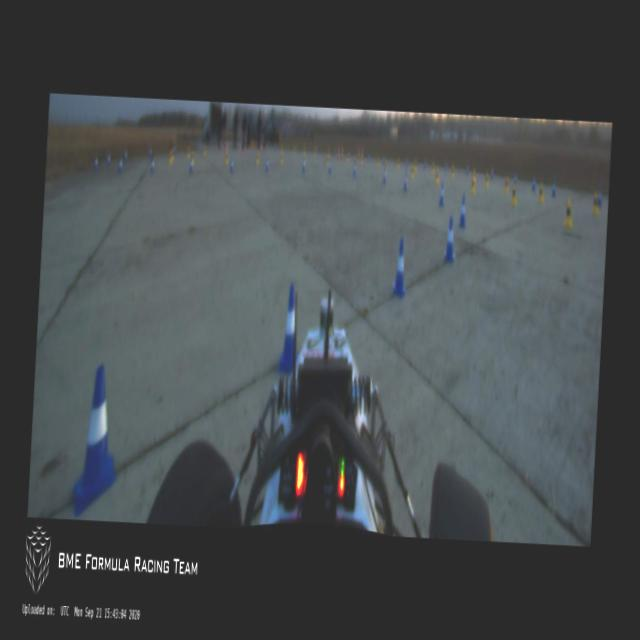blue_cone: (72, 363, 122, 518), (278, 284, 296, 372), (392, 238, 408, 296), (444, 216, 456, 262), (458, 195, 468, 227), (440, 181, 446, 206), (402, 172, 408, 192), (550, 180, 556, 198), (382, 168, 387, 184), (301, 158, 306, 172), (532, 176, 536, 192), (328, 159, 332, 174), (353, 162, 357, 176), (265, 158, 269, 172), (230, 158, 234, 172)
yellow_cone: (564, 200, 574, 227), (592, 192, 600, 214), (538, 182, 544, 202), (512, 187, 518, 206), (504, 175, 510, 192), (435, 168, 440, 186), (484, 172, 489, 188), (472, 176, 476, 193), (410, 164, 414, 180)
